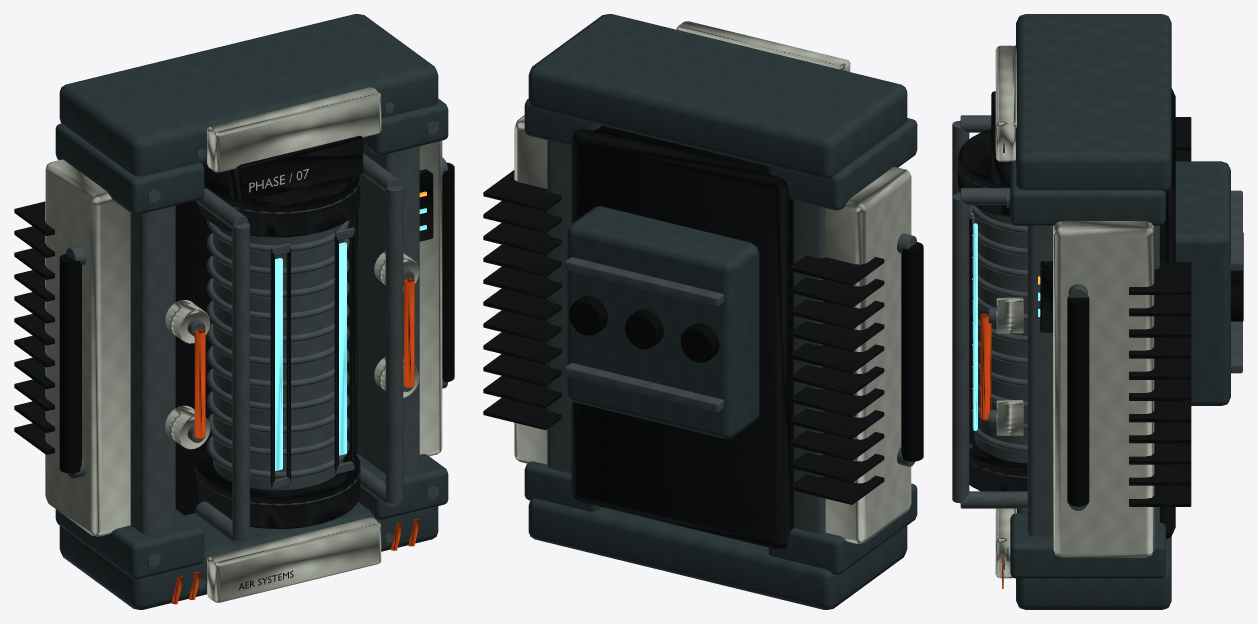
File: power-cassette.glb
3 renders of one model, left to right at view 1: azimuth 30°, elevation 25°; view 2: azimuth 150°, elevation 25°; view 3: azimuth 270°, elevation 25°, orthographic. The views are drawn at different scales.
Visible parts, largest first — view 1: Industrial_BareSteel / manufactured assembly, Industrial_SlateCoat / manufactured assembly, Industrial_BoneCoat / manufactured assembly, Industrial_Graphite / manufactured assembly, Industrial_Seal / manufactured assembly, Industrial_CoolEmitter / manufactured assembly, Industrial_SafetyOrange / manufactured assembly; view 2: Industrial_SlateCoat / manufactured assembly, Industrial_Graphite / manufactured assembly, Industrial_BoneCoat / manufactured assembly, Industrial_BareSteel / manufactured assembly, Industrial_Seal / manufactured assembly; view 3: Industrial_SlateCoat / manufactured assembly, Industrial_BoneCoat / manufactured assembly, Industrial_BareSteel / manufactured assembly, Industrial_Graphite / manufactured assembly, Industrial_Seal / manufactured assembly, Industrial_SafetyOrange / manufactured assembly, Industrial_CoolEmitter / manufactured assembly.
Boxes of the visible parts, x1,y1,x2,y2 form: Industrial_BareSteel / manufactured assembly: (66, 102, 447, 589); Industrial_SlateCoat / manufactured assembly: (55, 14, 448, 609); Industrial_BoneCoat / manufactured assembly: (45, 87, 442, 602); Industrial_Graphite / manufactured assembly: (14, 135, 433, 590); Industrial_Seal / manufactured assembly: (59, 162, 454, 473); Industrial_CoolEmitter / manufactured assembly: (275, 208, 426, 470); Industrial_SafetyOrange / manufactured assembly: (171, 278, 420, 604); Industrial_SlateCoat / manufactured assembly: (524, 14, 917, 609); Industrial_Graphite / manufactured assembly: (483, 125, 884, 549); Industrial_BoneCoat / manufactured assembly: (514, 21, 911, 543); Industrial_BareSteel / manufactured assembly: (547, 140, 916, 533); Industrial_Seal / manufactured assembly: (569, 242, 923, 461); Industrial_SlateCoat / manufactured assembly: (1010, 14, 1230, 609); Industrial_BoneCoat / manufactured assembly: (995, 45, 1154, 578); Industrial_BareSteel / manufactured assembly: (952, 115, 1242, 569); Industrial_Graphite / manufactured assembly: (957, 88, 1191, 538); Industrial_Seal / manufactured assembly: (1067, 232, 1243, 506); Industrial_SafetyOrange / manufactured assembly: (980, 313, 1003, 588); Industrial_CoolEmitter / manufactured assembly: (973, 223, 1040, 430).
Size of the model in its own units: 1.17 by 1.35 by 0.7778.
9 materials, 7 textured.
